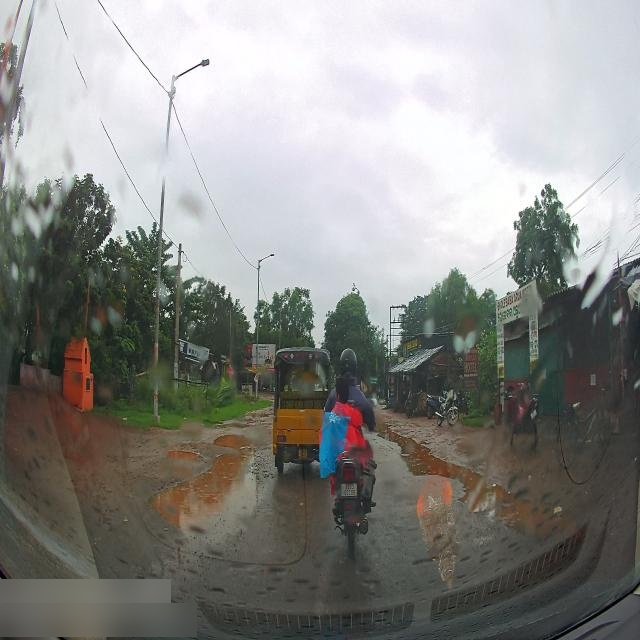pothole: (146, 489, 268, 537), (463, 486, 533, 521), (403, 450, 468, 482), (209, 461, 284, 485), (211, 424, 259, 452), (165, 441, 205, 465), (379, 426, 420, 447), (468, 468, 490, 486)
